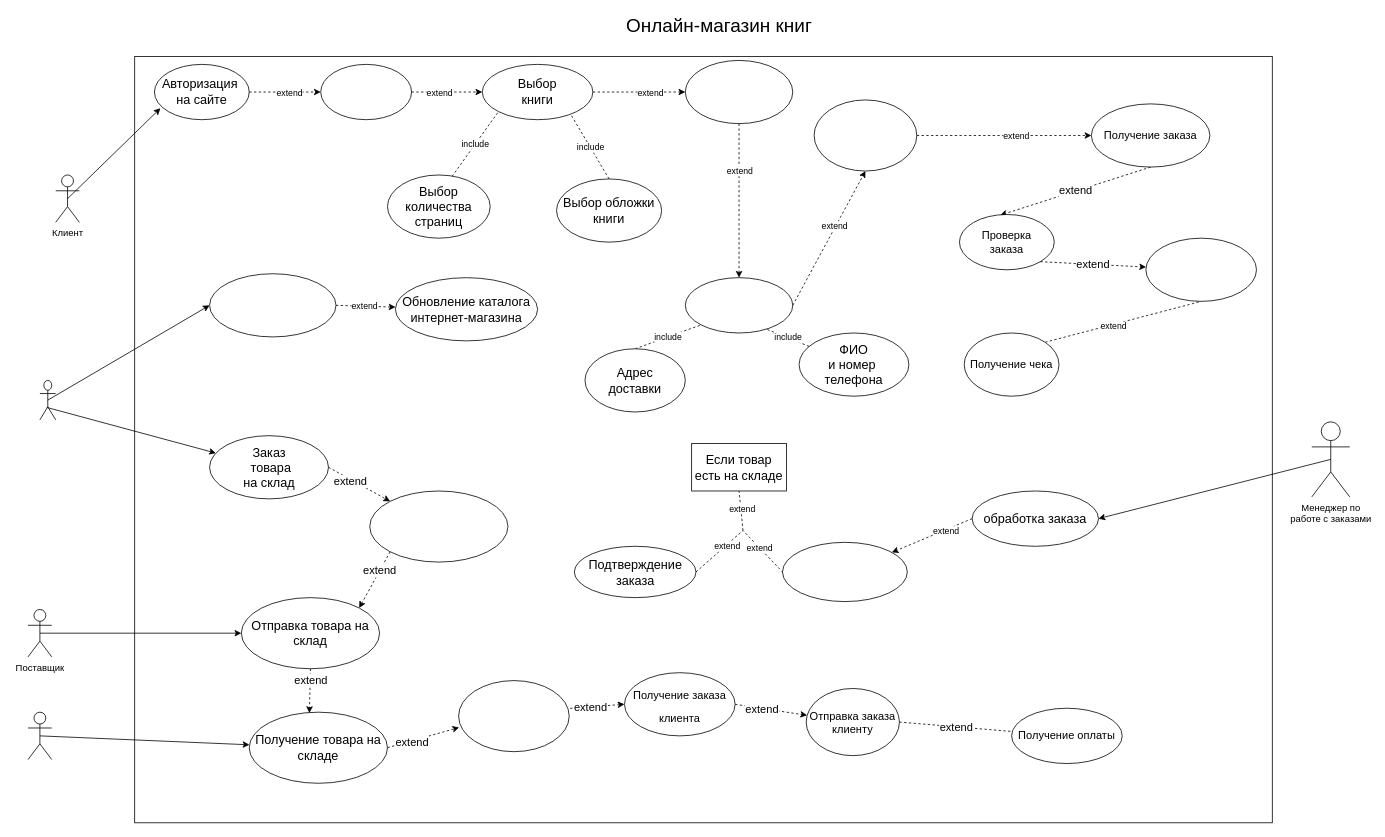
This 1385x837 diagram has some shape labels left out. The centre of each missing label's shape, as x and y in pixels:
Администратор: point (47, 400)
Запрос наличия модели на складе: point (844, 572)
Звонок для подтверждения заказа: point (865, 135)
Кладовщик: point (39, 735)
Оплата: point (1200, 269)
Оформление документов об отправке товара: point (438, 526)
Оформление интернет магазина: point (272, 305)
Передача заказа со склада курьеру: point (513, 716)
Просмотр книг: point (366, 92)
Указание персональных данных: point (739, 305)
Формирование заказа: point (739, 92)
